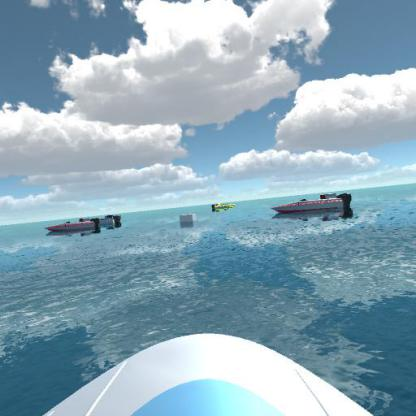usv0: (212, 198, 238, 212)
usv1: (92, 211, 128, 230)
usv3: (269, 189, 356, 219), (44, 211, 100, 239)
